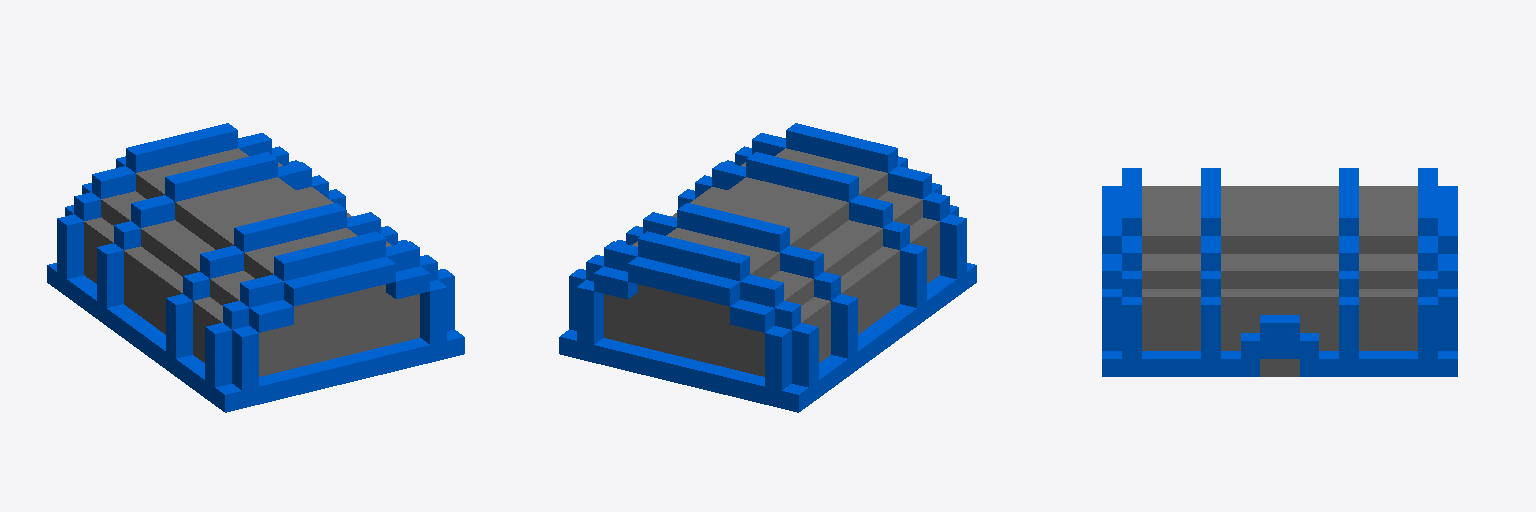
3 renders of one model, left to right at view 1: azimuth 30°, elevation 25°; view 2: azimuth 150°, elevation 25°; view 3: azimuth 270°, elevation 25°, orthographic.
Parts seen in each view (by area): view 1: Matrix_part_4; view 2: Matrix_part_4; view 3: Matrix_part_4.
Boxes of the visible parts, x1=… form: Matrix_part_4: x1=47, y1=123, x2=464, y2=412; Matrix_part_4: x1=559, y1=123, x2=976, y2=412; Matrix_part_4: x1=1102, y1=168, x2=1457, y2=376.
Size of the model in its own units: 14 by 7 by 18.
1 materials, 1 textured.